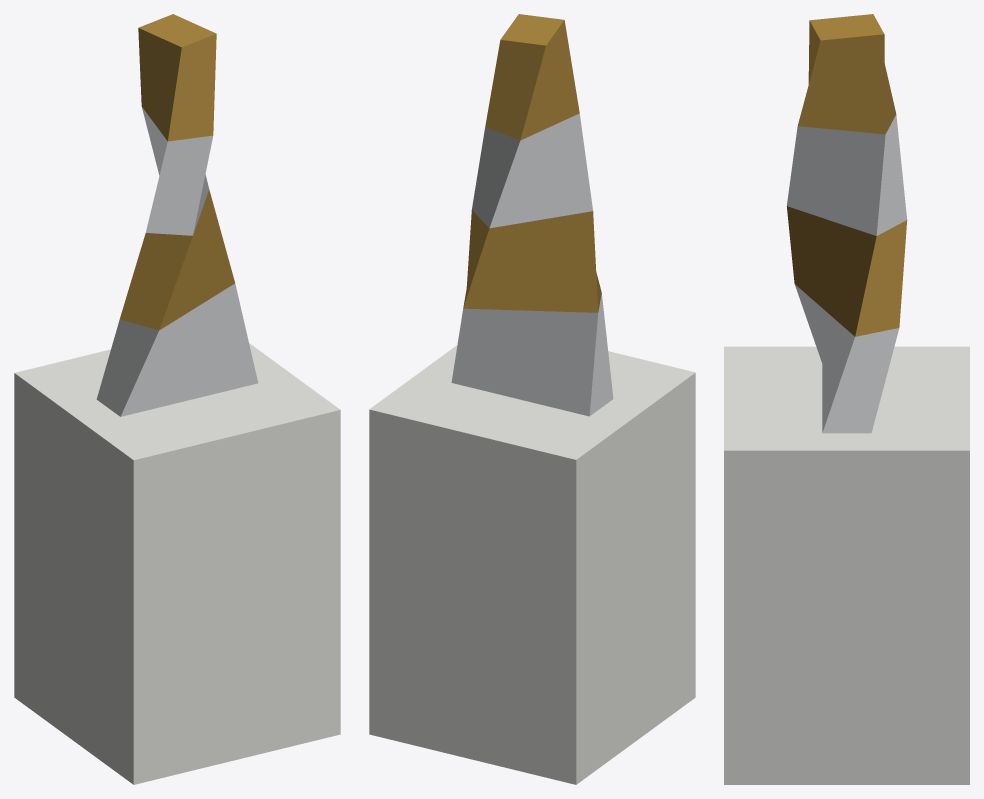
File: sculpture.glb
The picture shows the model from 3 angles, left to right: view 1: azimuth 30°, elevation 25°; view 2: azimuth 150°, elevation 25°; view 3: azimuth 270°, elevation 25°; orthographic projection. The views are drawn at different scales.
Parts seen in each view (by area): view 1: sculpture; view 2: sculpture; view 3: sculpture.
Boxes of the visible parts, x1,y1,x2,y2 form: sculpture: (14, 14, 340, 784); sculpture: (369, 14, 695, 784); sculpture: (724, 14, 969, 784).
Bounding box in the file's own units: 0.6 × 1.9 × 0.6.
Materials: 1 (1 with a texture image).
